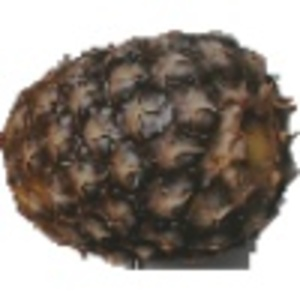abacaxi: (5, 24, 295, 260)
